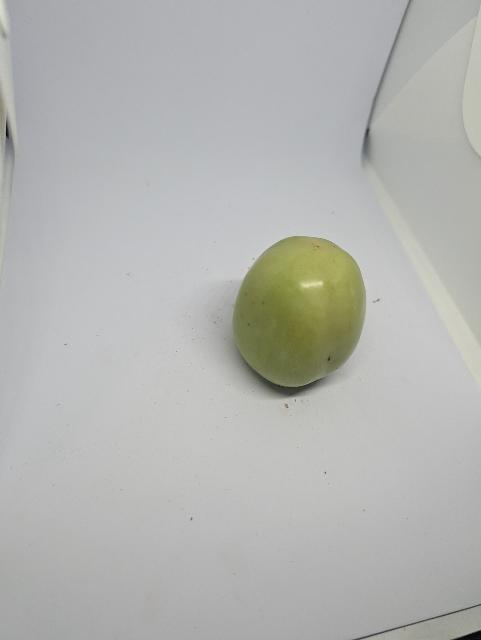green: (217, 216, 405, 417)
